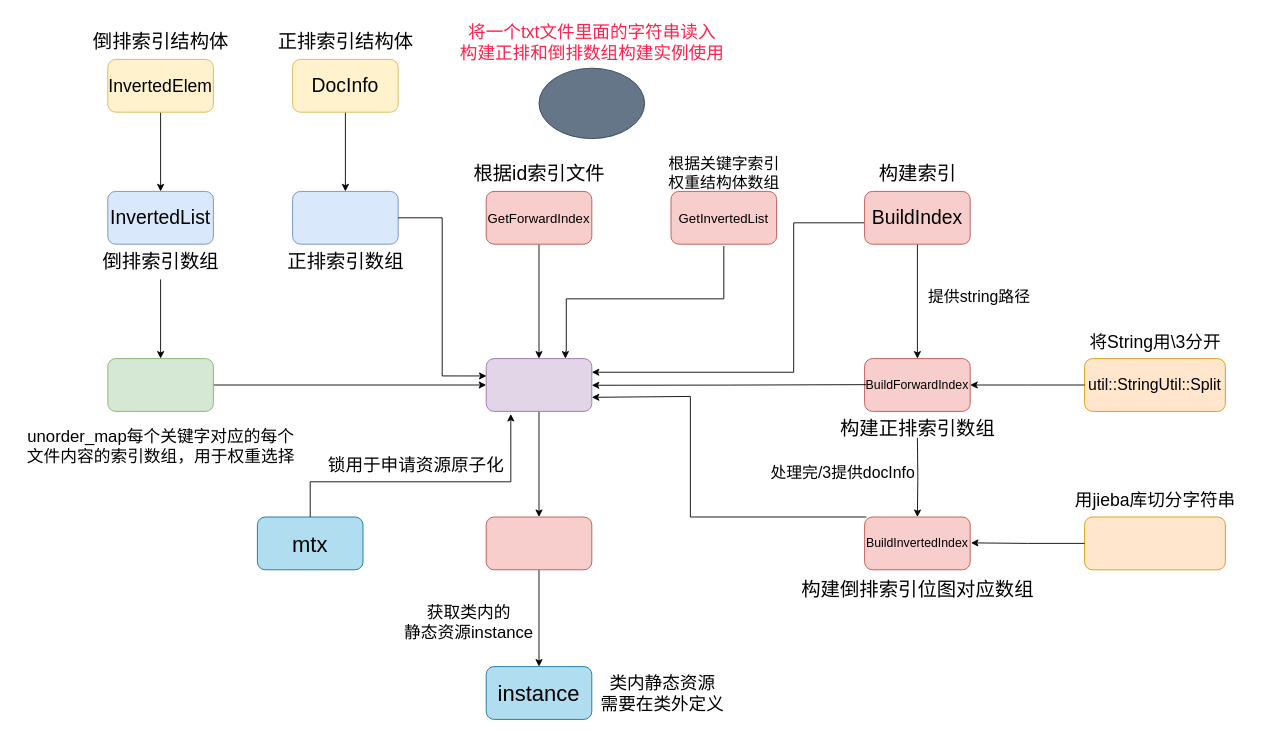
Some shapes in this 1262 by 735 pixel diagram are drawn without their labels. Each missing label, with the centre of its shape:
"forward_index" belongs at point (345, 217).
"GetInstance" belongs at point (538, 543).
"Index" belongs at point (538, 384).
"index.hpp" belongs at point (591, 103).
"inverted_index" belongs at point (160, 384).
"util::JiebaUtil::Cut" belongs at point (1154, 543).
